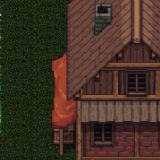Obstacle: (33, 0, 160, 160)
